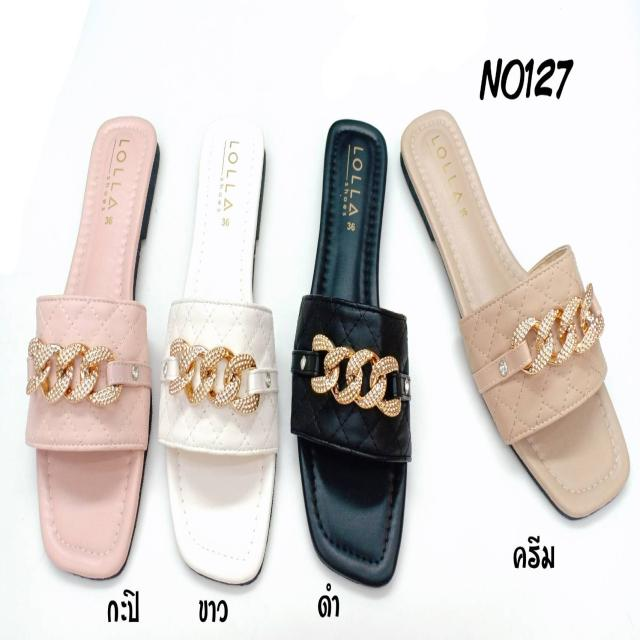black: (292, 121, 402, 585)
cream: (401, 110, 626, 524)
kapi: (34, 116, 158, 577)
white: (168, 131, 272, 586)
